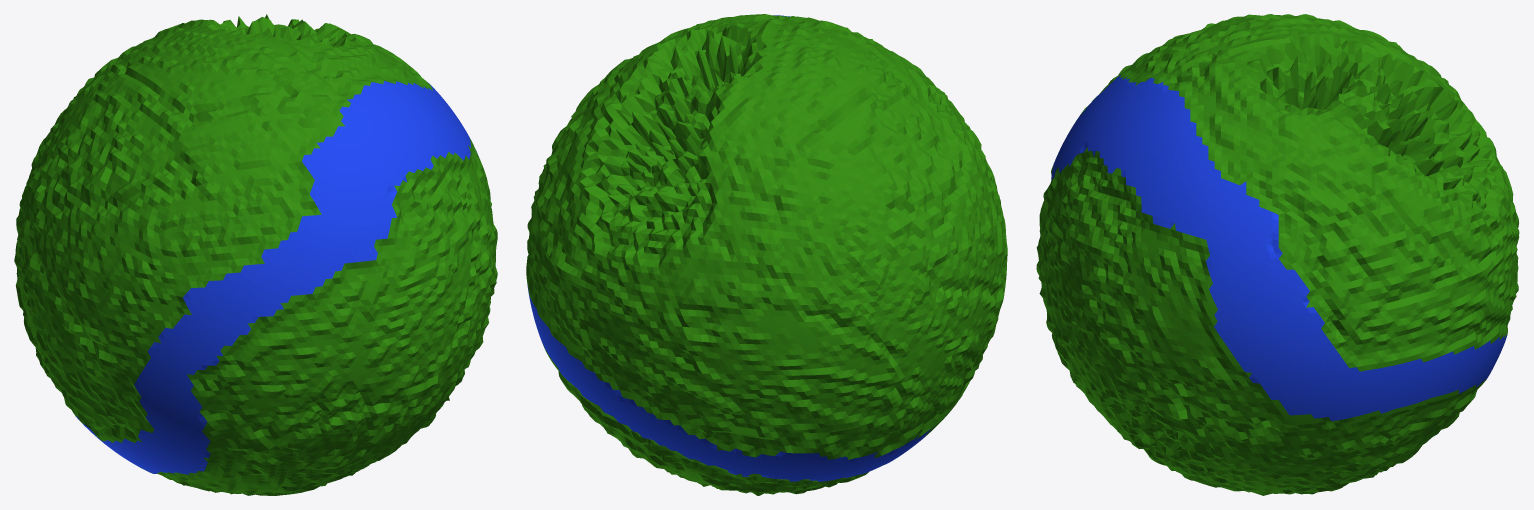
The model's file is PlanetLowPoly.FBX.
The picture shows the model from 3 angles, left to right: view 1: azimuth 30°, elevation 25°; view 2: azimuth 150°, elevation 25°; view 3: azimuth 270°, elevation 25°; orthographic projection.
Parts seen in each view (by area): view 1: GeoSphere001; view 2: GeoSphere001; view 3: GeoSphere001.
Part boxes in pixels (<box>): GeoSphere001: <box>14,14,497,495</box>; GeoSphere001: <box>526,14,1007,495</box>; GeoSphere001: <box>1036,14,1519,495</box>.
Bounding box in the file's own units: 1990 × 1991 × 1990.
